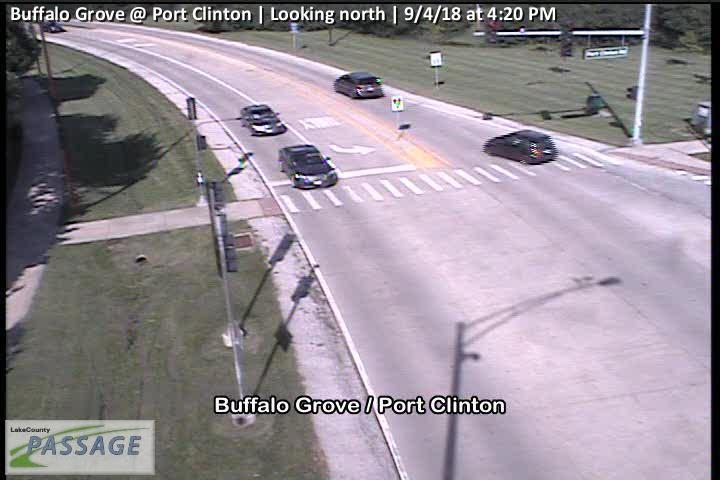Sedan: (480, 128, 557, 165), (279, 143, 338, 188), (333, 70, 383, 98), (239, 106, 285, 136), (43, 21, 64, 33)
